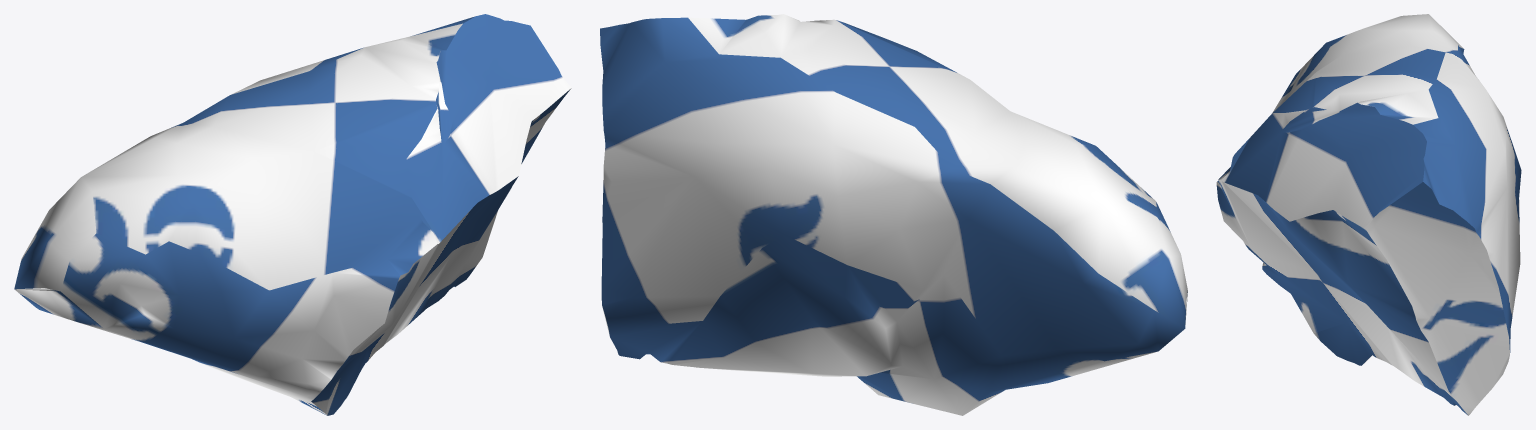
File: NeRock1.fbx
3 renders of one model, left to right at view 1: azimuth 30°, elevation 25°; view 2: azimuth 150°, elevation 25°; view 3: azimuth 270°, elevation 25°, orthographic. The views are drawn at different scales.
Parts seen in each view (by area): view 1: SM_e_Plc_P0002_Rock004; view 2: SM_e_Plc_P0002_Rock004; view 3: SM_e_Plc_P0002_Rock004.
Boxes of the visible parts, left/top/right/bottom form: SM_e_Plc_P0002_Rock004: left=14, top=14, right=571, bottom=415; SM_e_Plc_P0002_Rock004: left=600, top=14, right=1187, bottom=415; SM_e_Plc_P0002_Rock004: left=1216, top=14, right=1521, bottom=415.
Size of the model in its own units: 137 by 79.62 by 70.5.
1 material, 1 textured.
